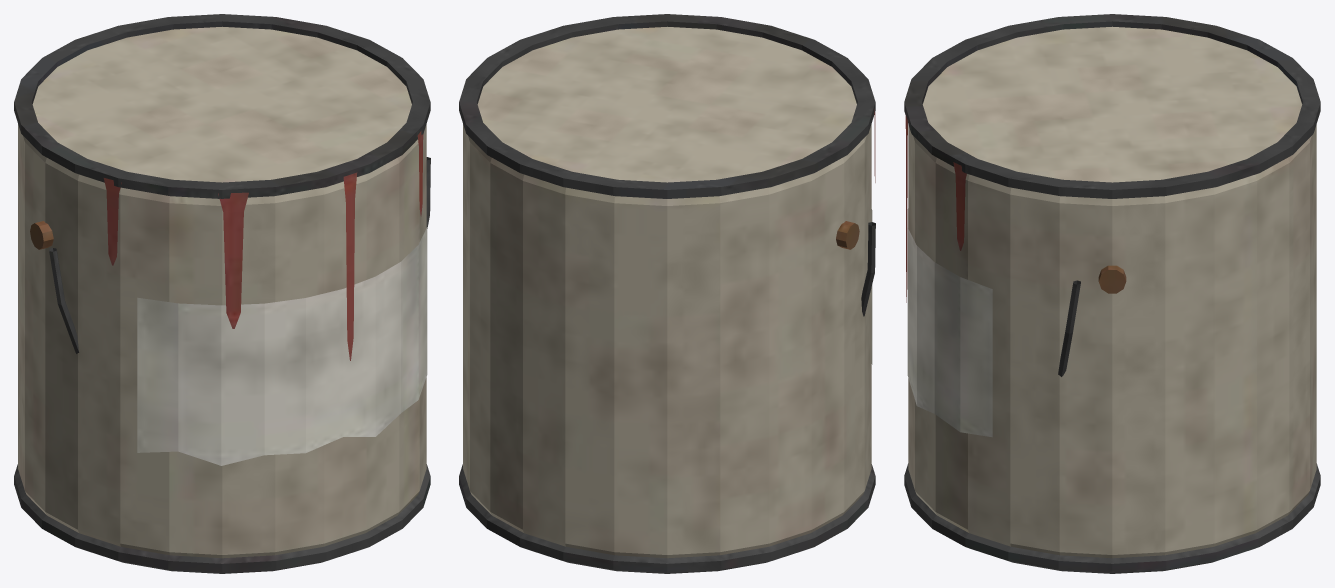
Rendered from D21_paint_cans_v1.glb.
The picture shows the model from 3 angles, left to right: view 1: azimuth 30°, elevation 25°; view 2: azimuth 150°, elevation 25°; view 3: azimuth 270°, elevation 25°; orthographic projection.
Visible parts, largest first — view 1: Dented tin body; view 2: Dented tin body; view 3: Dented tin body.
Boxes of the visible parts, box(x1,y1,x2,y2) form: Dented tin body: box(14, 14, 430, 573); Dented tin body: box(459, 14, 875, 573); Dented tin body: box(904, 14, 1320, 573).
Size of the model in its own units: 0.3 by 0.2915 by 0.2834.
Materials: 6 (6 with a texture image).
